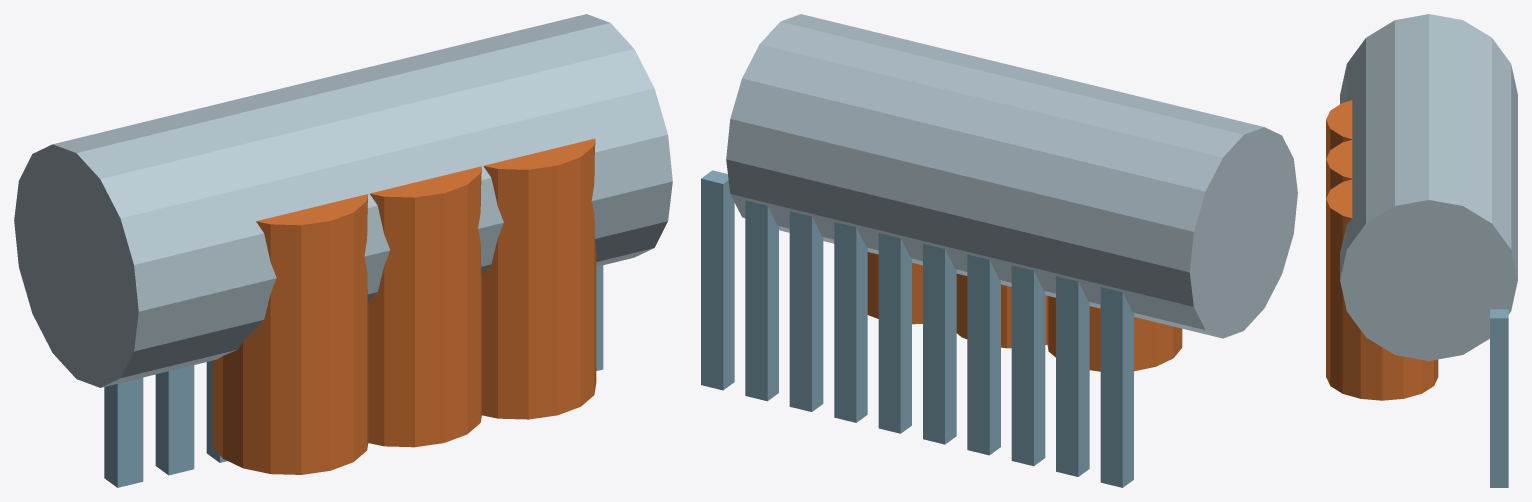
The model's file is 02_L69_CompressorCutawayAssembly.fbx.
The picture shows the model from 3 angles, left to right: view 1: azimuth 30°, elevation 25°; view 2: azimuth 150°, elevation 25°; view 3: azimuth 270°, elevation 25°; orthographic projection. The views are drawn at different scales.
Visible parts, largest first — view 1: CompressorCutawayAssembly; view 2: CompressorCutawayAssembly; view 3: CompressorCutawayAssembly.
Boxes of the visible parts, bbox=[...] form: CompressorCutawayAssembly: bbox=[14, 14, 672, 487]; CompressorCutawayAssembly: bbox=[701, 14, 1297, 487]; CompressorCutawayAssembly: bbox=[1326, 14, 1517, 487].
Size of the model in its own units: 100 by 65 by 41.
